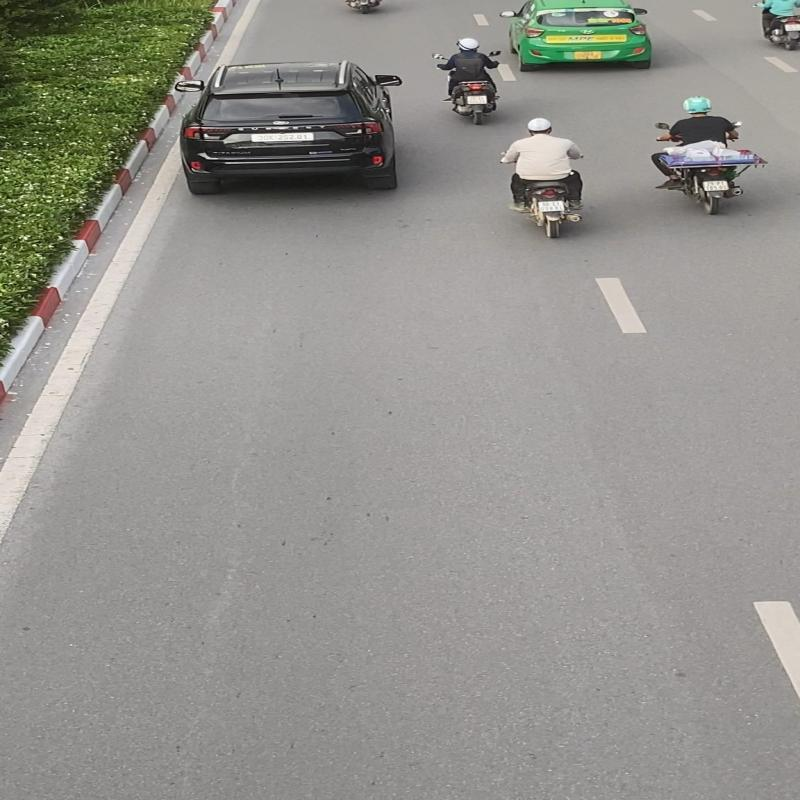helmet: (682, 94, 716, 114), (528, 117, 552, 134)
licenseplate: (537, 200, 566, 212), (702, 180, 730, 192)
motorcyclist: (646, 92, 769, 217), (496, 115, 596, 240)
